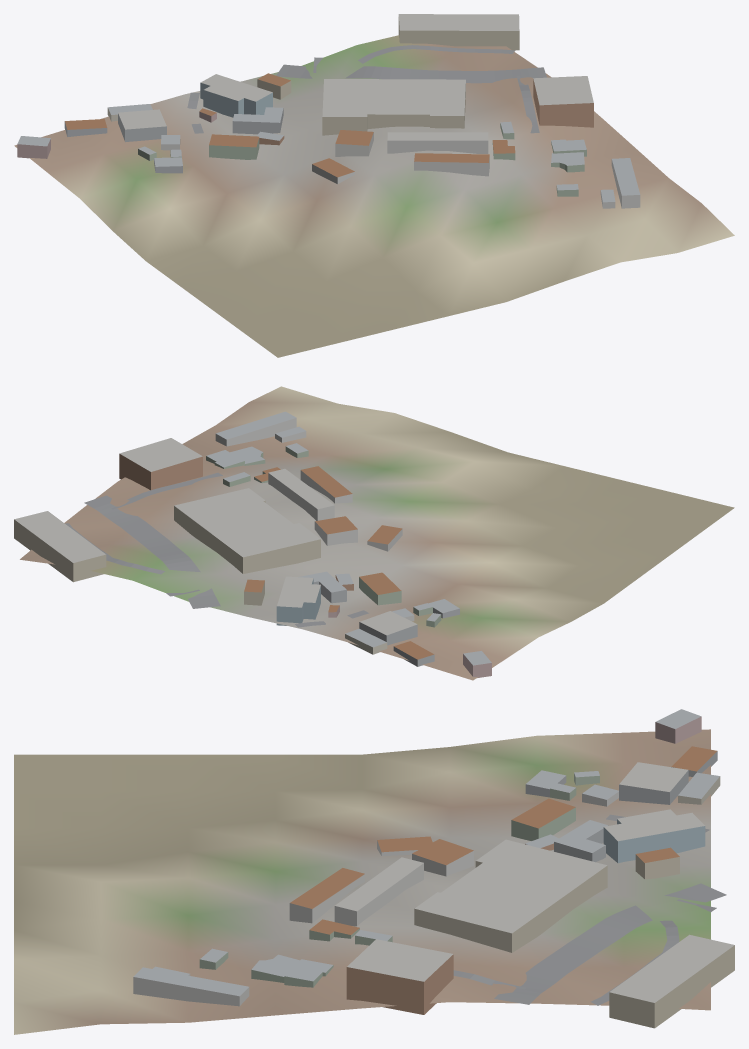
3 renders of one model, top to bottom at view 1: azimuth 30°, elevation 25°; view 2: azimuth 150°, elevation 25°; view 3: azimuth 270°, elevation 25°, orthographic. The views are drawn at different scales.
Visible parts, largest first — view 1: Lo; view 2: Lo; view 3: Lo.
Boxes of the visible parts, x1,y1,x2,y2 form: Lo: (14,14,734,357); Lo: (14,386,734,680); Lo: (14,709,734,1034).
Size of the model in its own units: 275 by 29.35 by 265.
